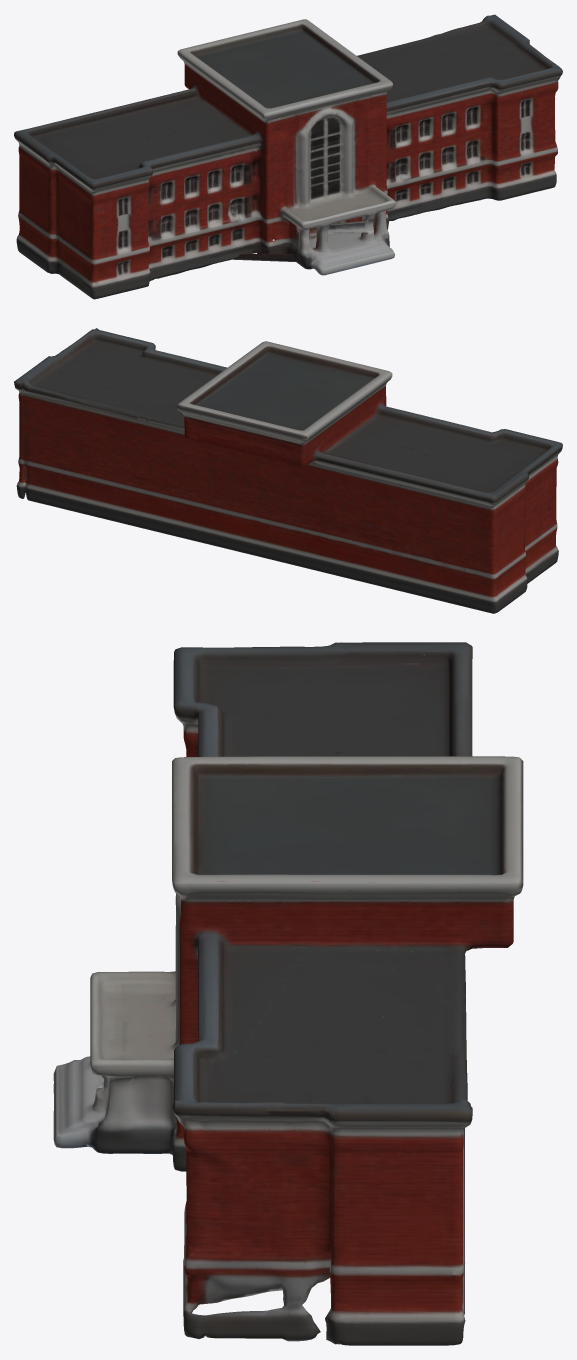
The model's file is CHS_model01.glb.
The picture shows the model from 3 angles, top to bottom: view 1: azimuth 30°, elevation 25°; view 2: azimuth 150°, elevation 25°; view 3: azimuth 270°, elevation 25°; orthographic projection. The views are drawn at different scales.
Parts seen in each view (by area): view 1: world; view 2: world; view 3: world.
Part boxes in pixels (x1=…): world: x1=14, y1=14, x2=562, y2=299; world: x1=14, y1=328, x2=562, y2=613; world: x1=53, y1=642, x2=523, y2=1345.
Bounding box in the file's own units: 1 × 0.2948 × 0.4213.
1 material, 1 textured.
